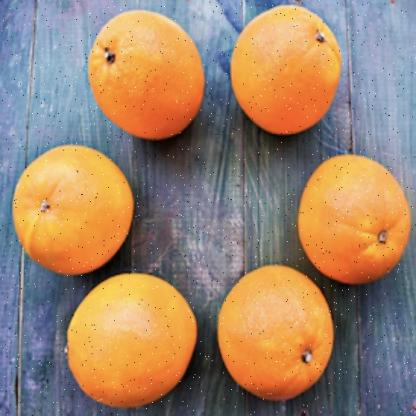fresh: (13, 7, 413, 400)
